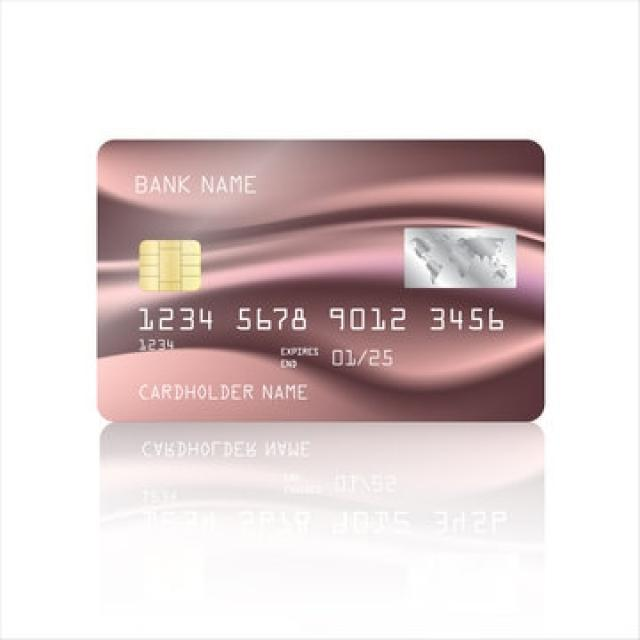payment_card: (96, 138, 546, 422)
